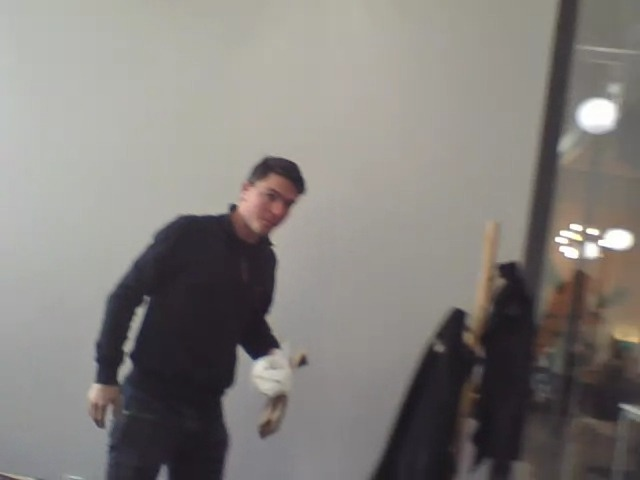face: (245, 173, 299, 238)
